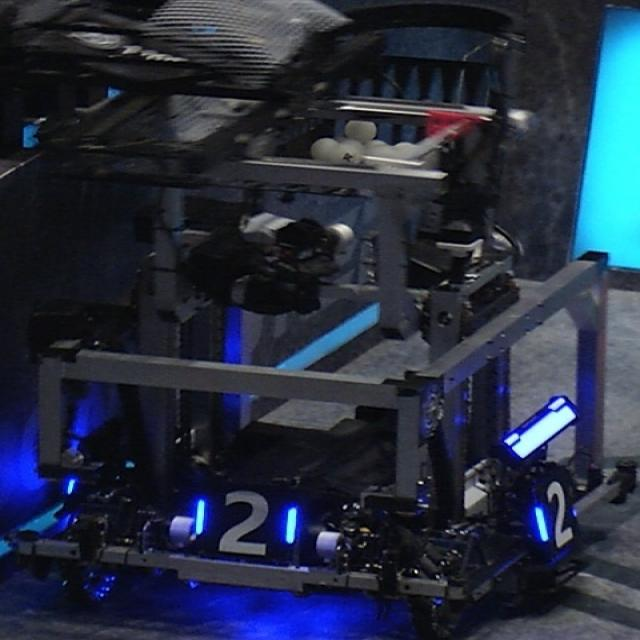B2: (193, 488, 299, 557)
